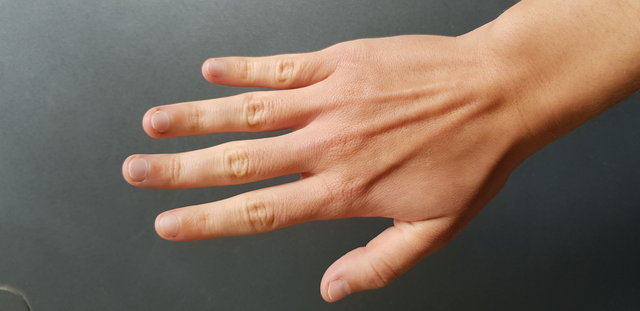Paper: (107, 41, 564, 304)
